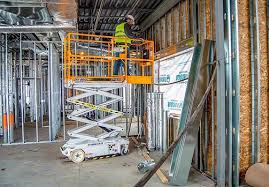Scissor Lift: (58, 32, 155, 165)
